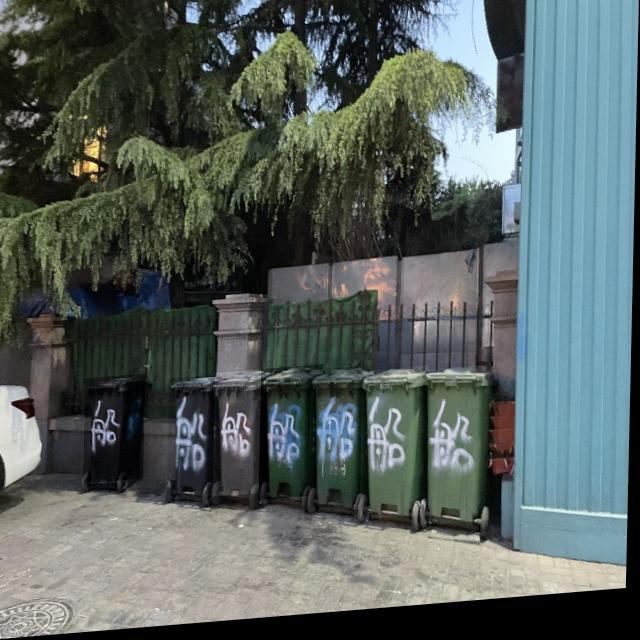garbage_bin: (424, 373, 495, 533), (362, 373, 431, 526), (311, 372, 375, 514), (261, 370, 325, 505), (215, 373, 272, 501), (169, 378, 225, 497), (86, 376, 147, 485)
